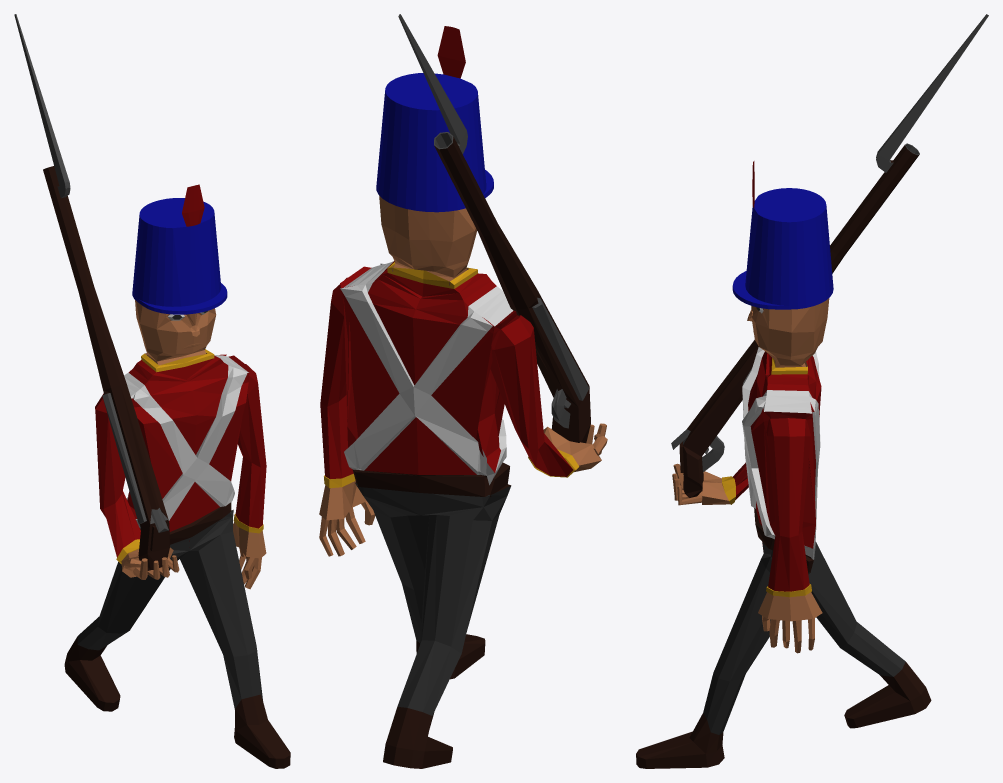
File: Infantry_000129.obj
The picture shows the model from 3 angles, left to right: view 1: azimuth 30°, elevation 25°; view 2: azimuth 150°, elevation 25°; view 3: azimuth 270°, elevation 25°; orthographic projection. The views are drawn at different scales.
Parts seen in each view (by area): view 1: {Man}_Circle, {Mesket}_Cube.001; view 2: {Man}_Circle, {Mesket}_Cube.001; view 3: {Man}_Circle, {Mesket}_Cube.001.
Boxes of the visible parts, <box> form: {Man}_Circle: <box>64,184,290,768</box>; {Mesket}_Cube.001: <box>14,14,170,570</box>; {Man}_Circle: <box>319,26,607,768</box>; {Mesket}_Cube.001: <box>398,14,590,443</box>; {Man}_Circle: <box>636,161,931,768</box>; {Mesket}_Cube.001: <box>671,14,988,497</box>.
Bounding box in the file's own units: 5.63 × 19.2 × 8.81.
